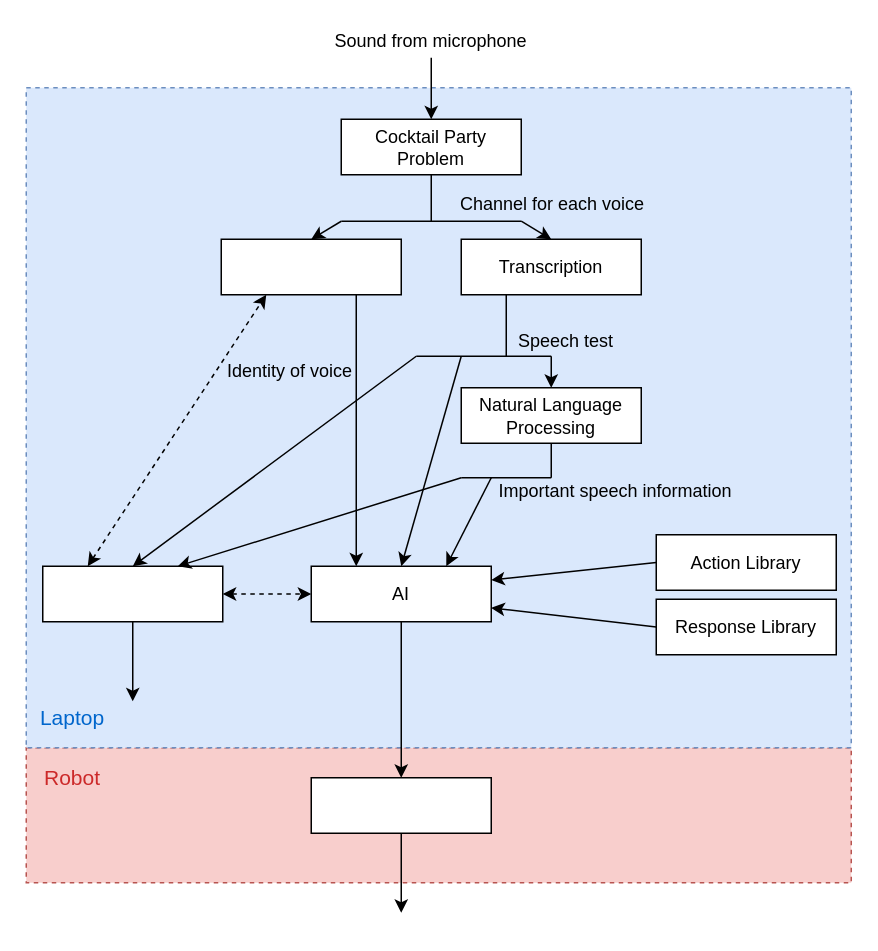
This 878x951 diagram has some shape labels left out. Each missing label, with the box of its shape:
Action: (310, 776, 491, 833)
Speech Diarizatior: (220, 238, 401, 295)
UI: (41, 565, 223, 622)
